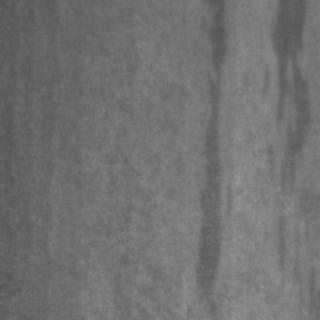inclusion: (188, 0, 232, 308), (268, 0, 308, 190), (275, 184, 315, 316)
